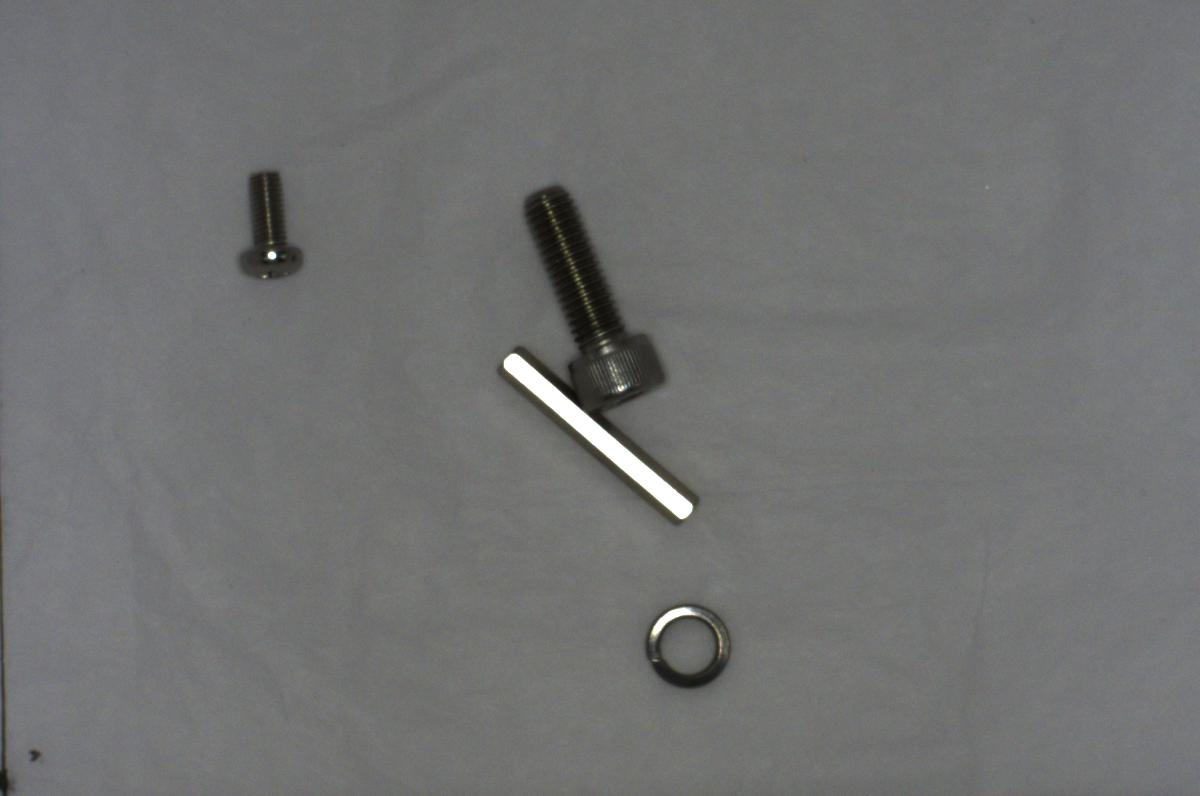Double hexagonal column: (491, 342, 699, 526)
Hexagon screw: (513, 173, 668, 419)
Round head screw: (238, 163, 307, 282)
Spring washer: (633, 598, 742, 696)
